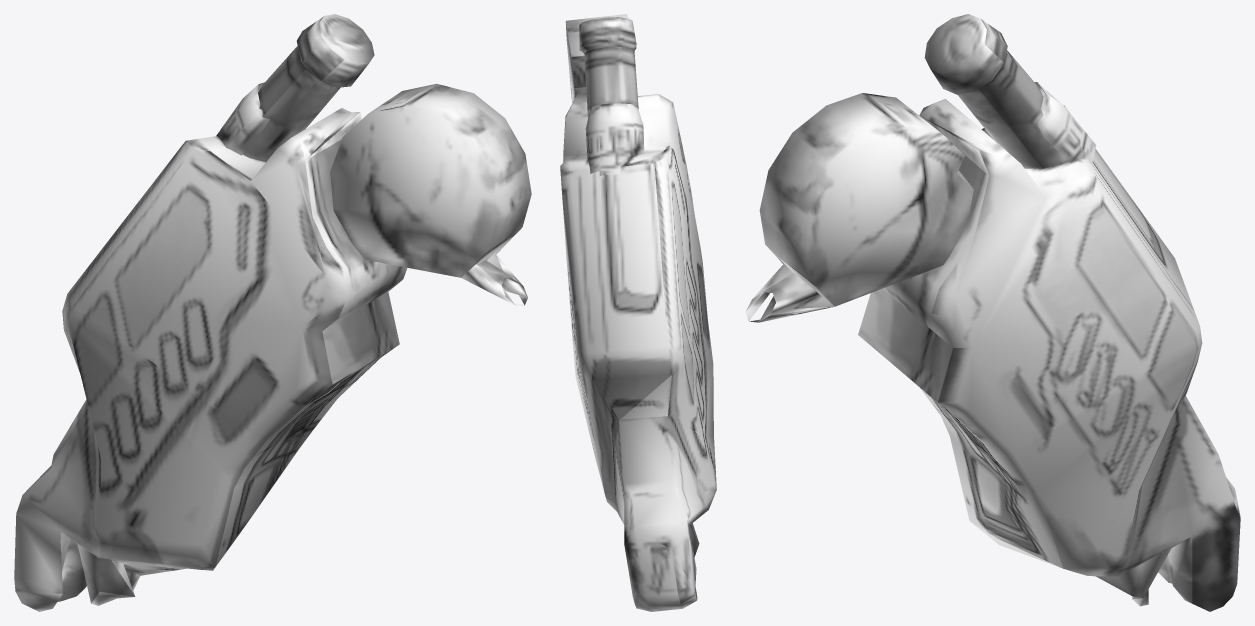
File: br_shin.glb
3 views of the same model, side by side, from view 1: azimuth 30°, elevation 25°; view 2: azimuth 150°, elevation 25°; view 3: azimuth 270°, elevation 25° (orthographic). The views are drawn at different scales.
Parts seen in each view (by area): view 1: br_shin; view 2: br_shin; view 3: br_shin.
Part boxes in pixels (x1,y1,x2,y2): br_shin: (14, 14, 531, 611); br_shin: (560, 14, 716, 611); br_shin: (745, 14, 1240, 611).
Bounding box in the file's own units: 0.9945 × 1.75 × 1.17.
Materials: 3 (3 with a texture image).
